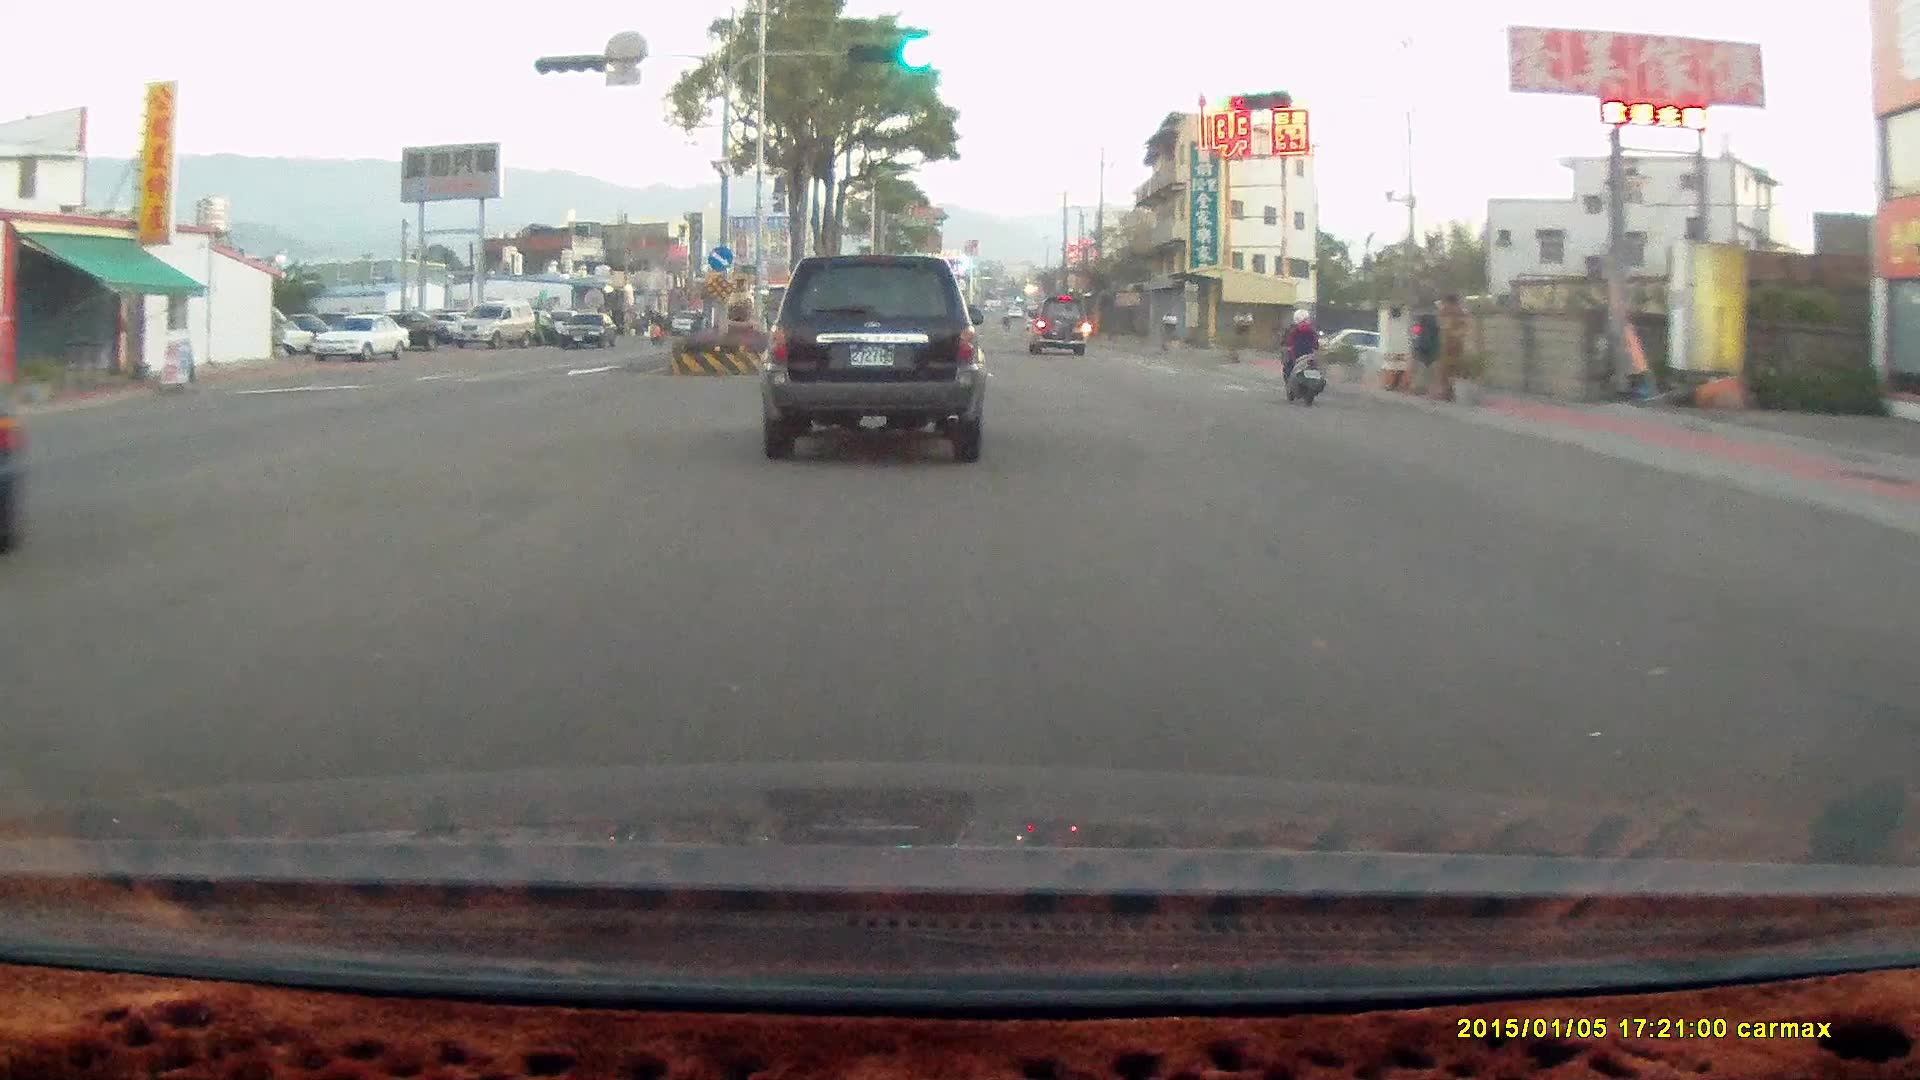rider: (1269, 300, 1337, 412), (1273, 304, 1324, 405)
vehicle: (768, 254, 997, 465), (761, 252, 985, 460), (309, 313, 408, 362), (316, 320, 414, 370), (450, 301, 539, 353), (1311, 324, 1405, 373), (449, 298, 537, 349), (1030, 297, 1090, 360), (1025, 297, 1088, 356), (363, 311, 447, 351), (558, 313, 619, 351)
